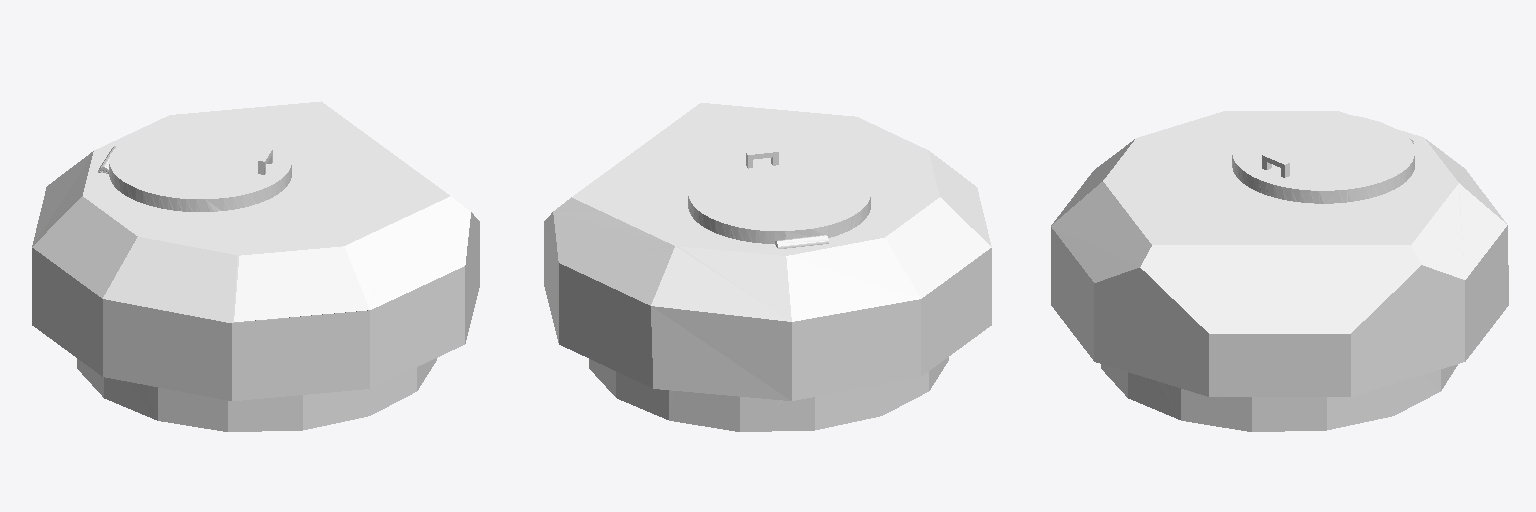
Rendered from turret.obj.
3 views of the same model, side by side, from view 1: azimuth 30°, elevation 25°; view 2: azimuth 150°, elevation 25°; view 3: azimuth 270°, elevation 25° (orthographic).
Parts seen in each view (by area): view 1: Object.005; view 2: Object.005; view 3: Object.005.
Boxes of the visible parts, x1=… form: Object.005: x1=32, y1=101, x2=479, y2=431; Object.005: x1=544, y1=103, x2=991, y2=431; Object.005: x1=1051, y1=111, x2=1508, y2=431.
Size of the model in its own units: 1.79 by 0.9134 by 1.88.